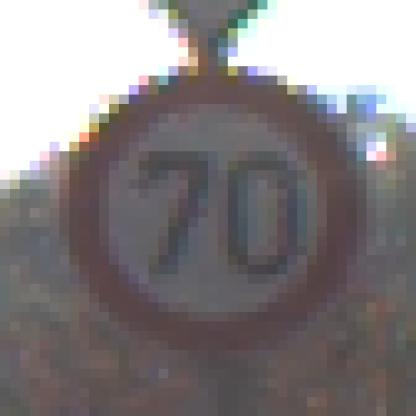Speed Limit 70: (79, 75, 347, 342)
